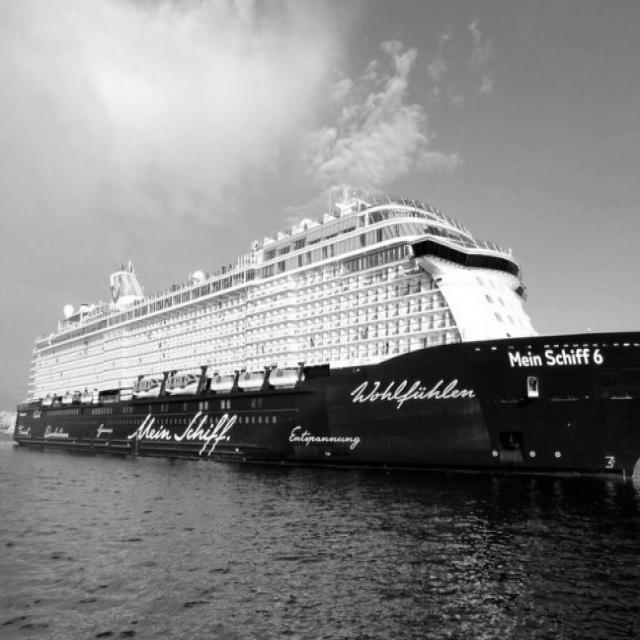cruises: (8, 191, 640, 492)
